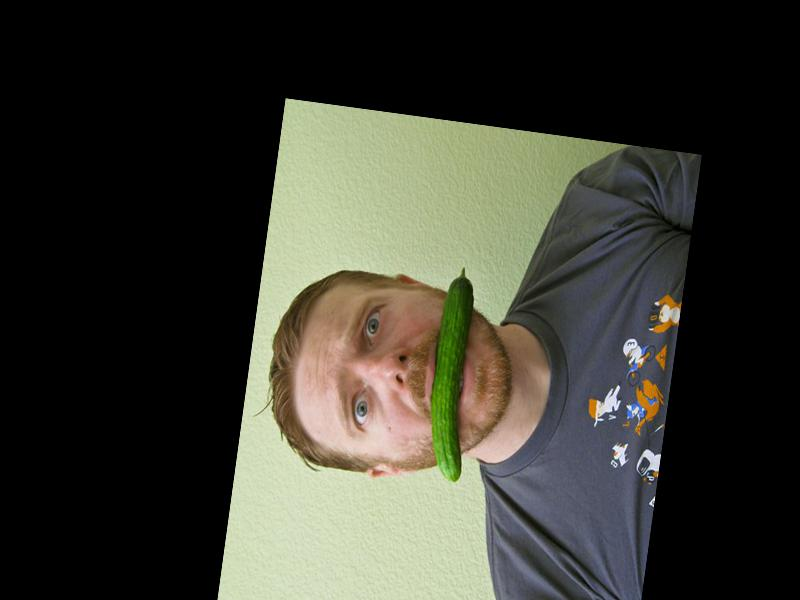Cucumber: (419, 265, 488, 485)
